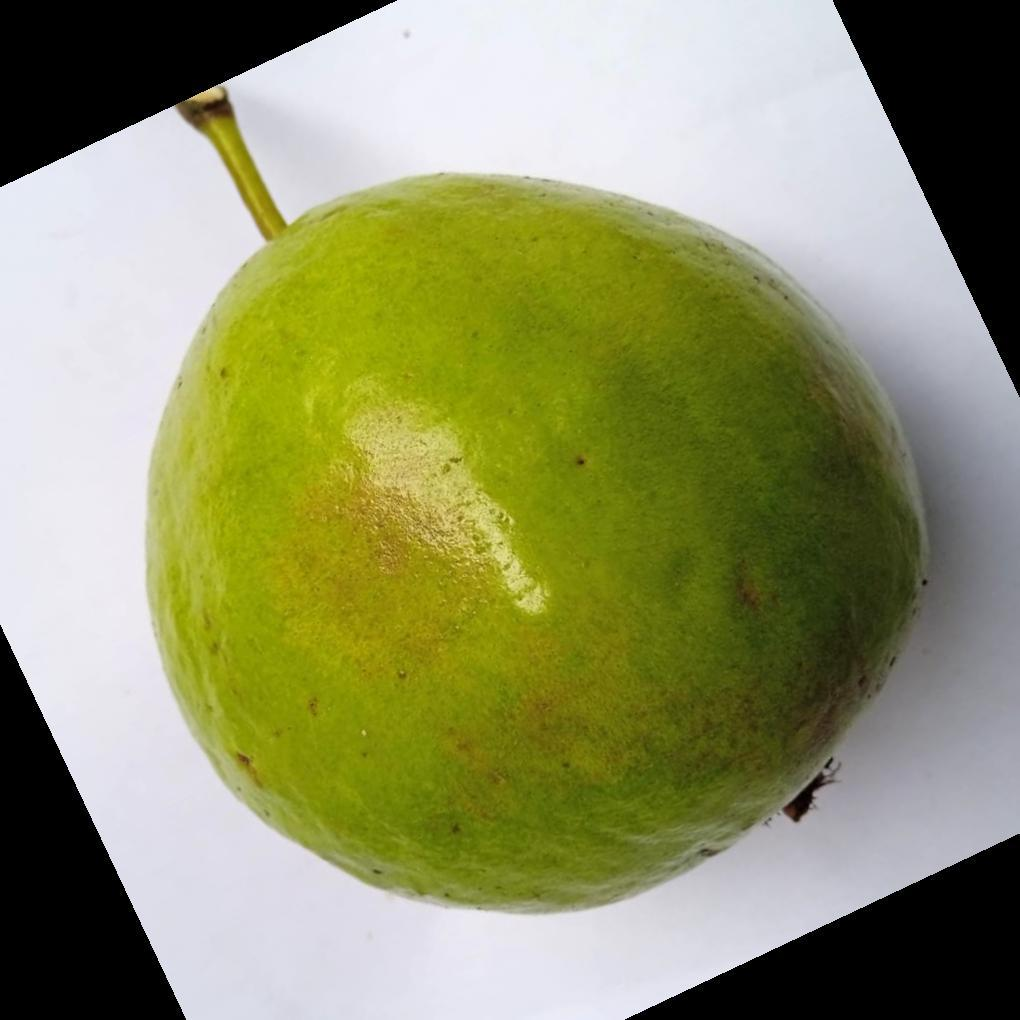FreshGuava: (141, 173, 930, 919)
